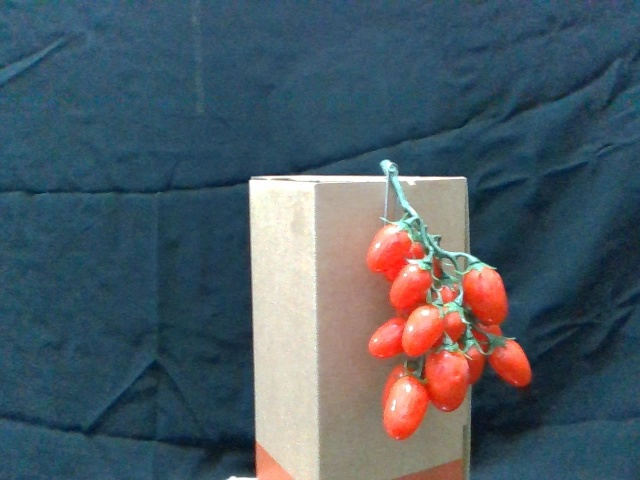tomato: (463, 259, 512, 327), (383, 373, 429, 441), (429, 341, 469, 412), (401, 302, 444, 358), (489, 334, 532, 389), (390, 259, 433, 312), (369, 224, 411, 274), (368, 315, 406, 358)
